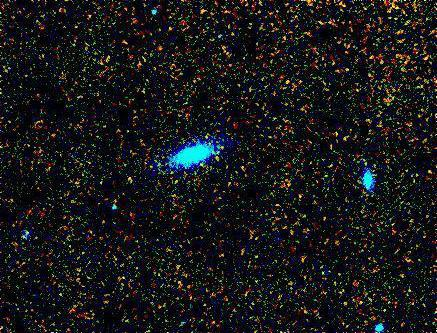star: (265, 168, 295, 198)
